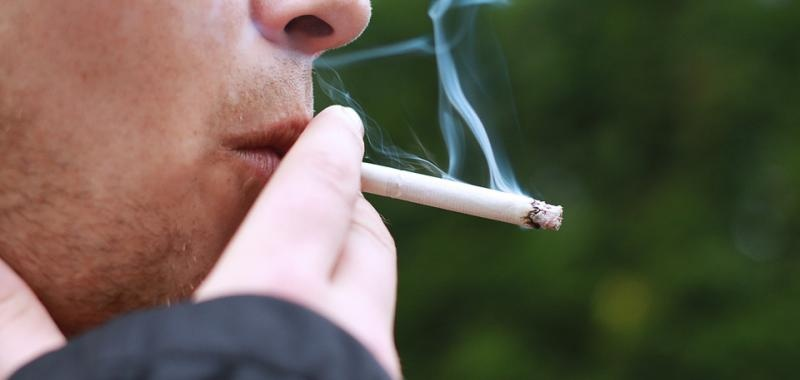sigaretta: (333, 155, 569, 244)
